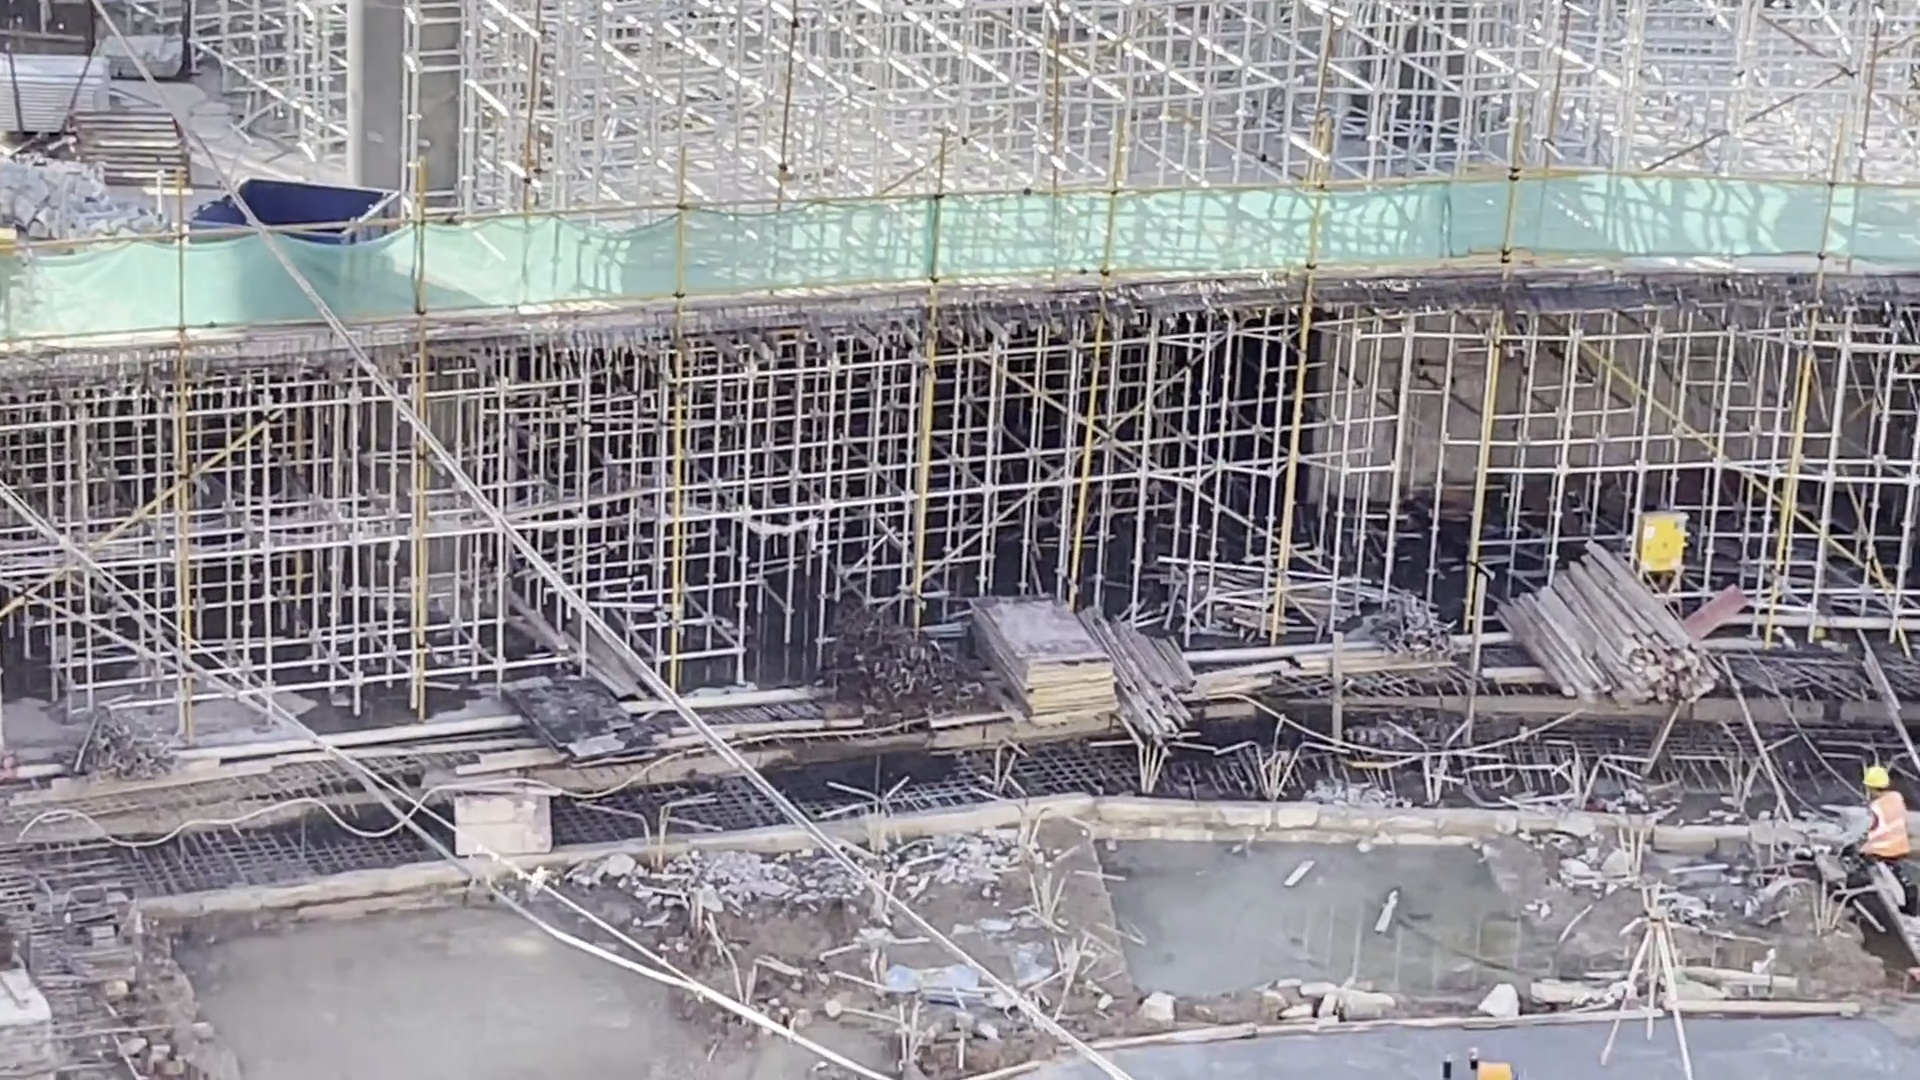board: (969, 580, 1113, 734)
ebox: (1627, 506, 1688, 589)
helmet: (1863, 765, 1891, 787)
hopper: (170, 177, 404, 245)
person: (1857, 766, 1920, 873)
vest: (1865, 795, 1908, 857)
wood: (1505, 547, 1699, 706)
